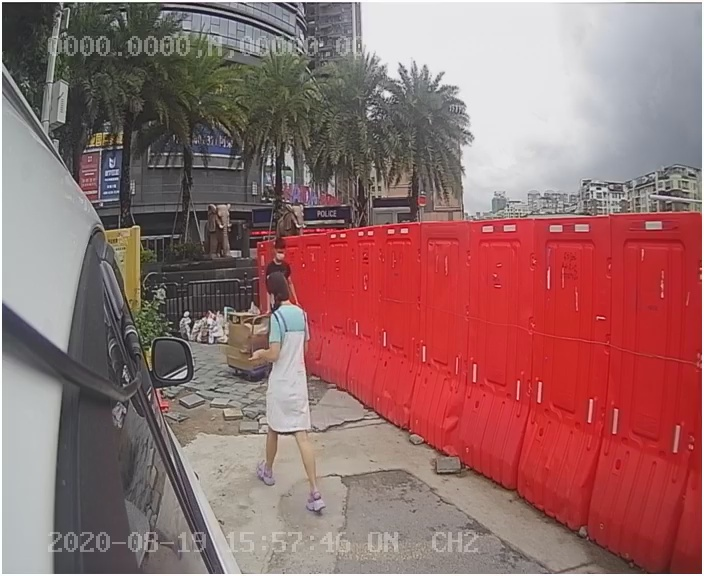person: (244, 271, 344, 521)
